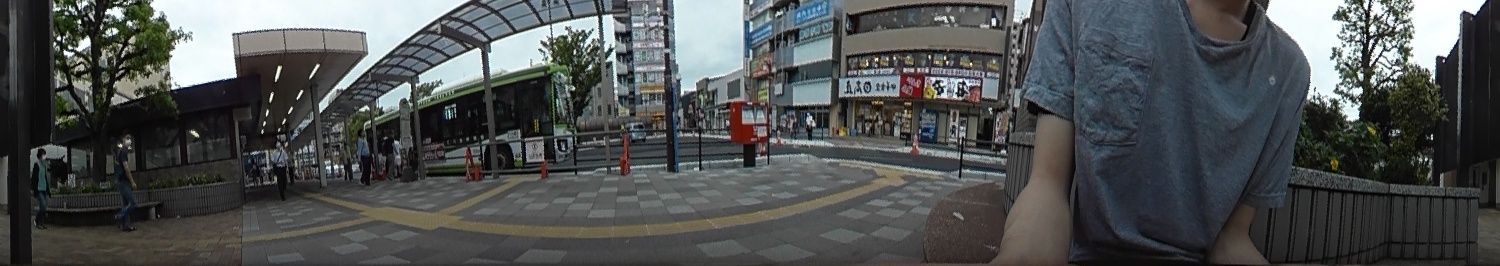difficult_person: (269, 140, 291, 198), (352, 128, 371, 181), (381, 131, 397, 179), (336, 141, 353, 178), (804, 110, 816, 138)
person: (112, 132, 139, 235), (33, 147, 55, 227)
